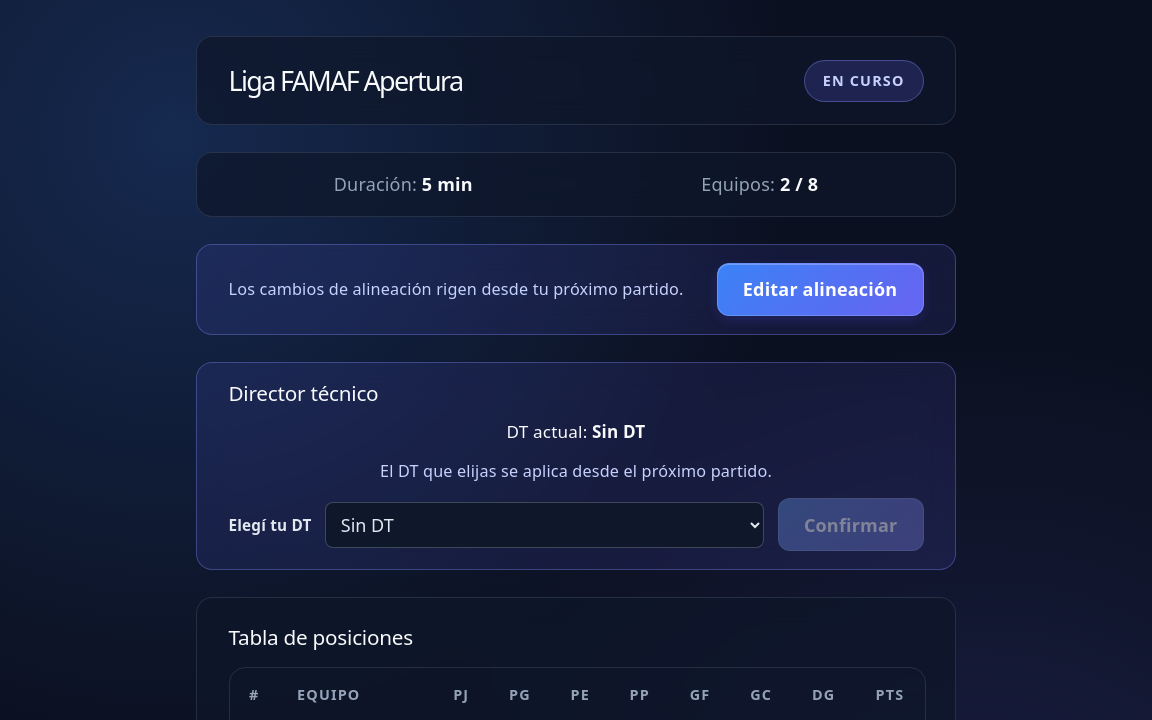
Scenario: LeagueLobbyPage › Pantalla de la liga en curso › Debería mostrar el nuevo DT en pantalla después de confirmarlo
The width and height of the screenshot is (1152, 720).
Select "DT ofensivo" in the dropdown. click: (545, 525)
box: [325,502,764,548]
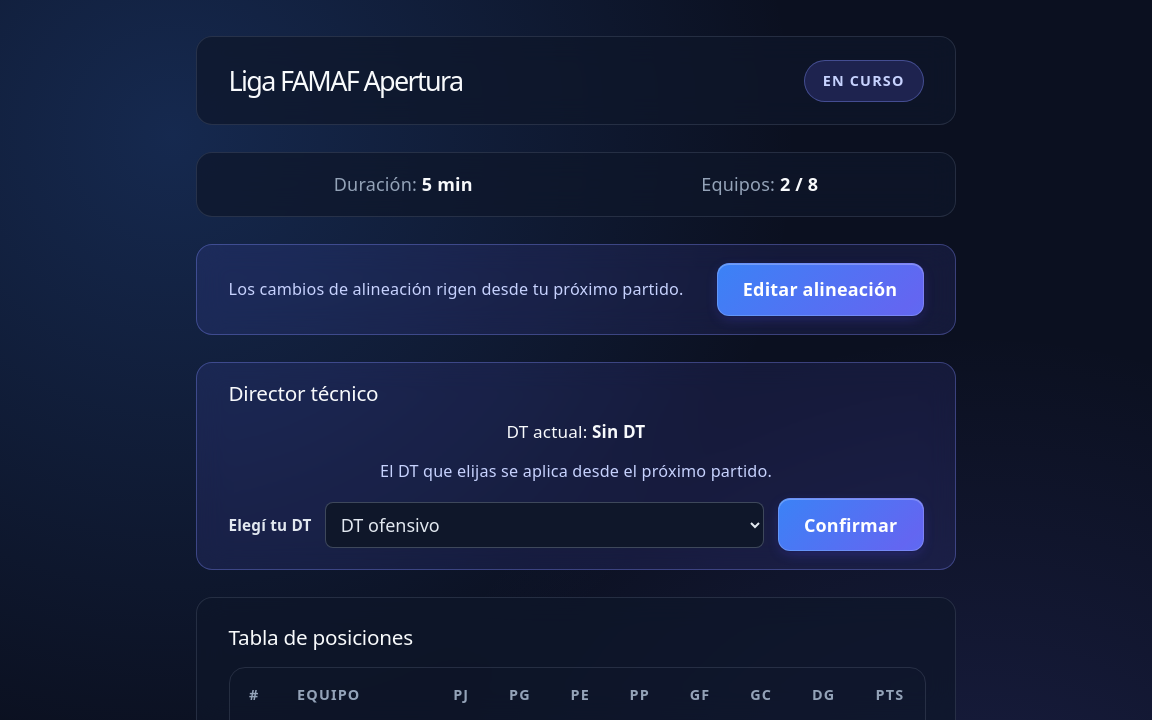
Click the button "Confirmar". click: (851, 525)
box: [778,498,924,551]
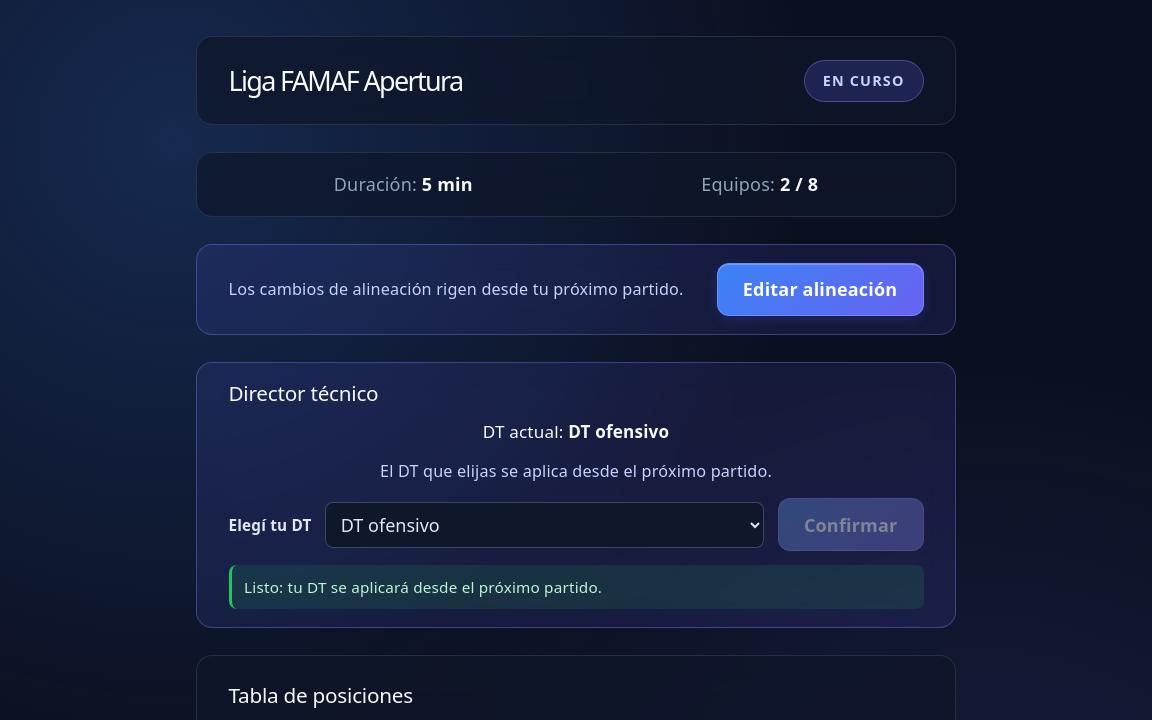
Expected: the text "DT ofensivo" is shown, [568,420,669,443]
